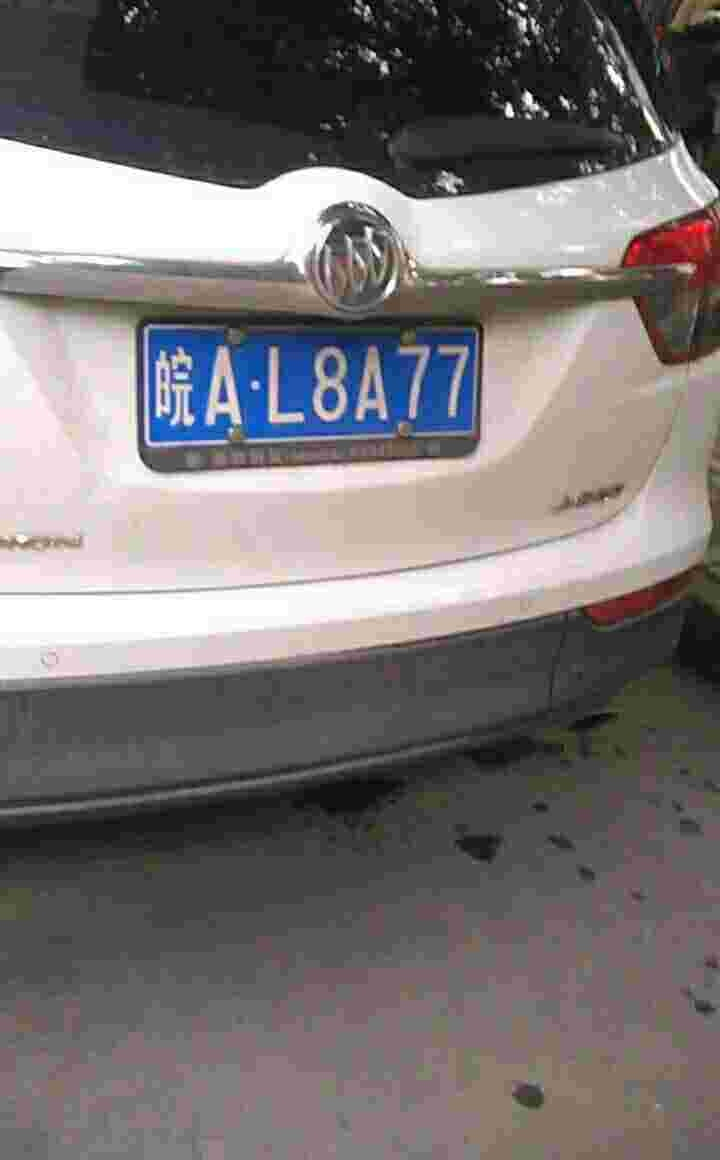license_plate: (149, 325, 485, 441)
